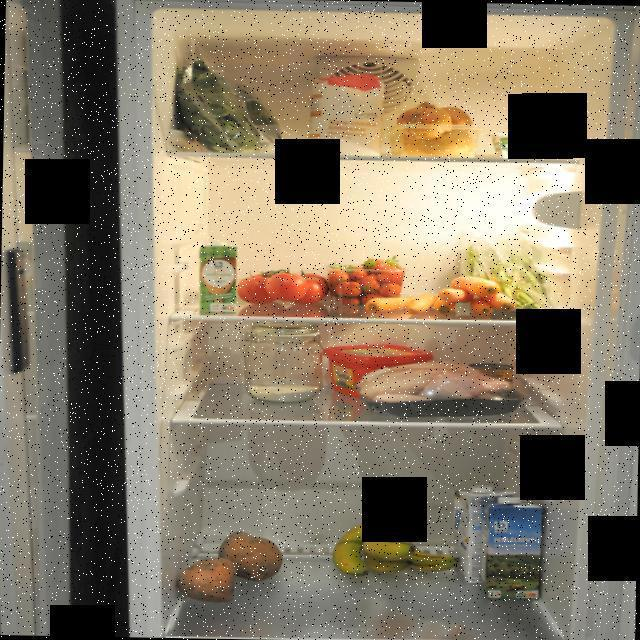banana: (331, 514, 462, 578)
butter: (320, 342, 434, 402)
carrot: (432, 274, 518, 320), (366, 292, 437, 315)
chicken: (350, 356, 532, 418)
flour: (237, 315, 333, 404)
goat_cheese: (484, 128, 554, 158)
green_beans: (451, 223, 559, 319)
heavy_cream: (196, 240, 238, 314)
milk: (477, 496, 546, 602), (452, 483, 518, 586)
onion: (381, 101, 485, 158)
spinach: (168, 43, 294, 156)
strawberries: (326, 252, 408, 310)
sugar: (307, 74, 386, 156)
sweet_potato: (176, 524, 290, 604)
tomato: (236, 264, 329, 308)
